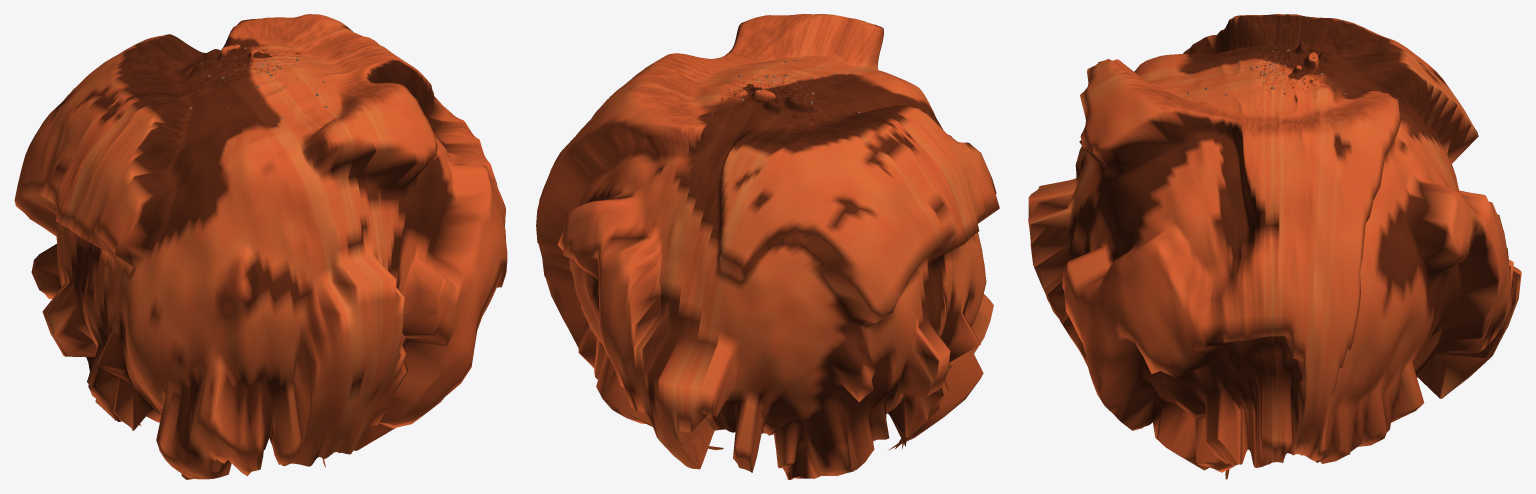
The model's file is mars-surface.glb.
3 views of the same model, side by side, from view 1: azimuth 30°, elevation 25°; view 2: azimuth 150°, elevation 25°; view 3: azimuth 270°, elevation 25° (orthographic).
Visible parts, largest first — view 1: marsGround; view 2: marsGround; view 3: marsGround.
Boxes of the visible parts, <box> form: marsGround: <box>14,14,507,479</box>; marsGround: <box>536,14,999,479</box>; marsGround: <box>1028,14,1521,479</box>.
Bounding box in the file's own units: 246 × 227 × 254.
